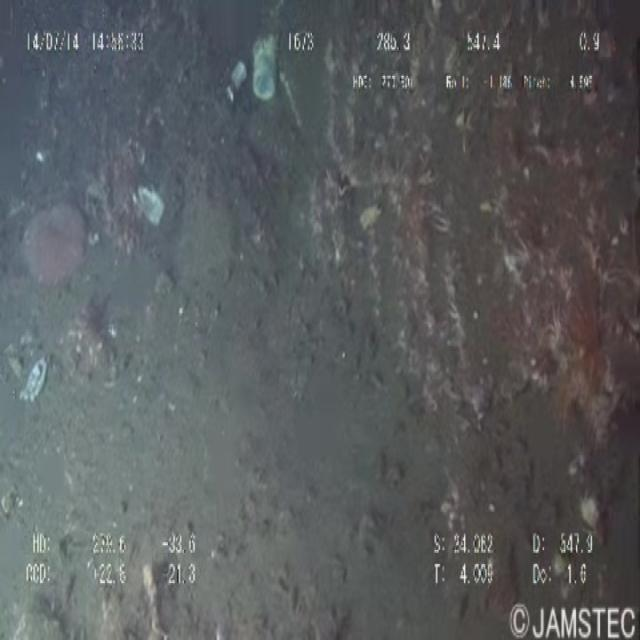Glass: (222, 49, 251, 121)
Litter: (133, 158, 166, 237), (22, 353, 52, 425)
Plastic: (250, 17, 284, 116)
